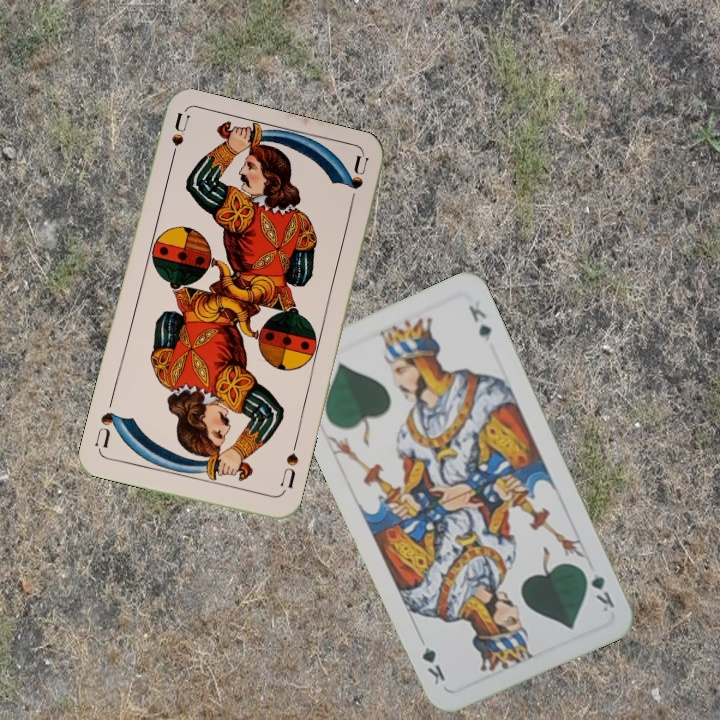GK: (577, 563, 618, 615)
SU: (165, 111, 192, 170), (276, 438, 301, 497)
